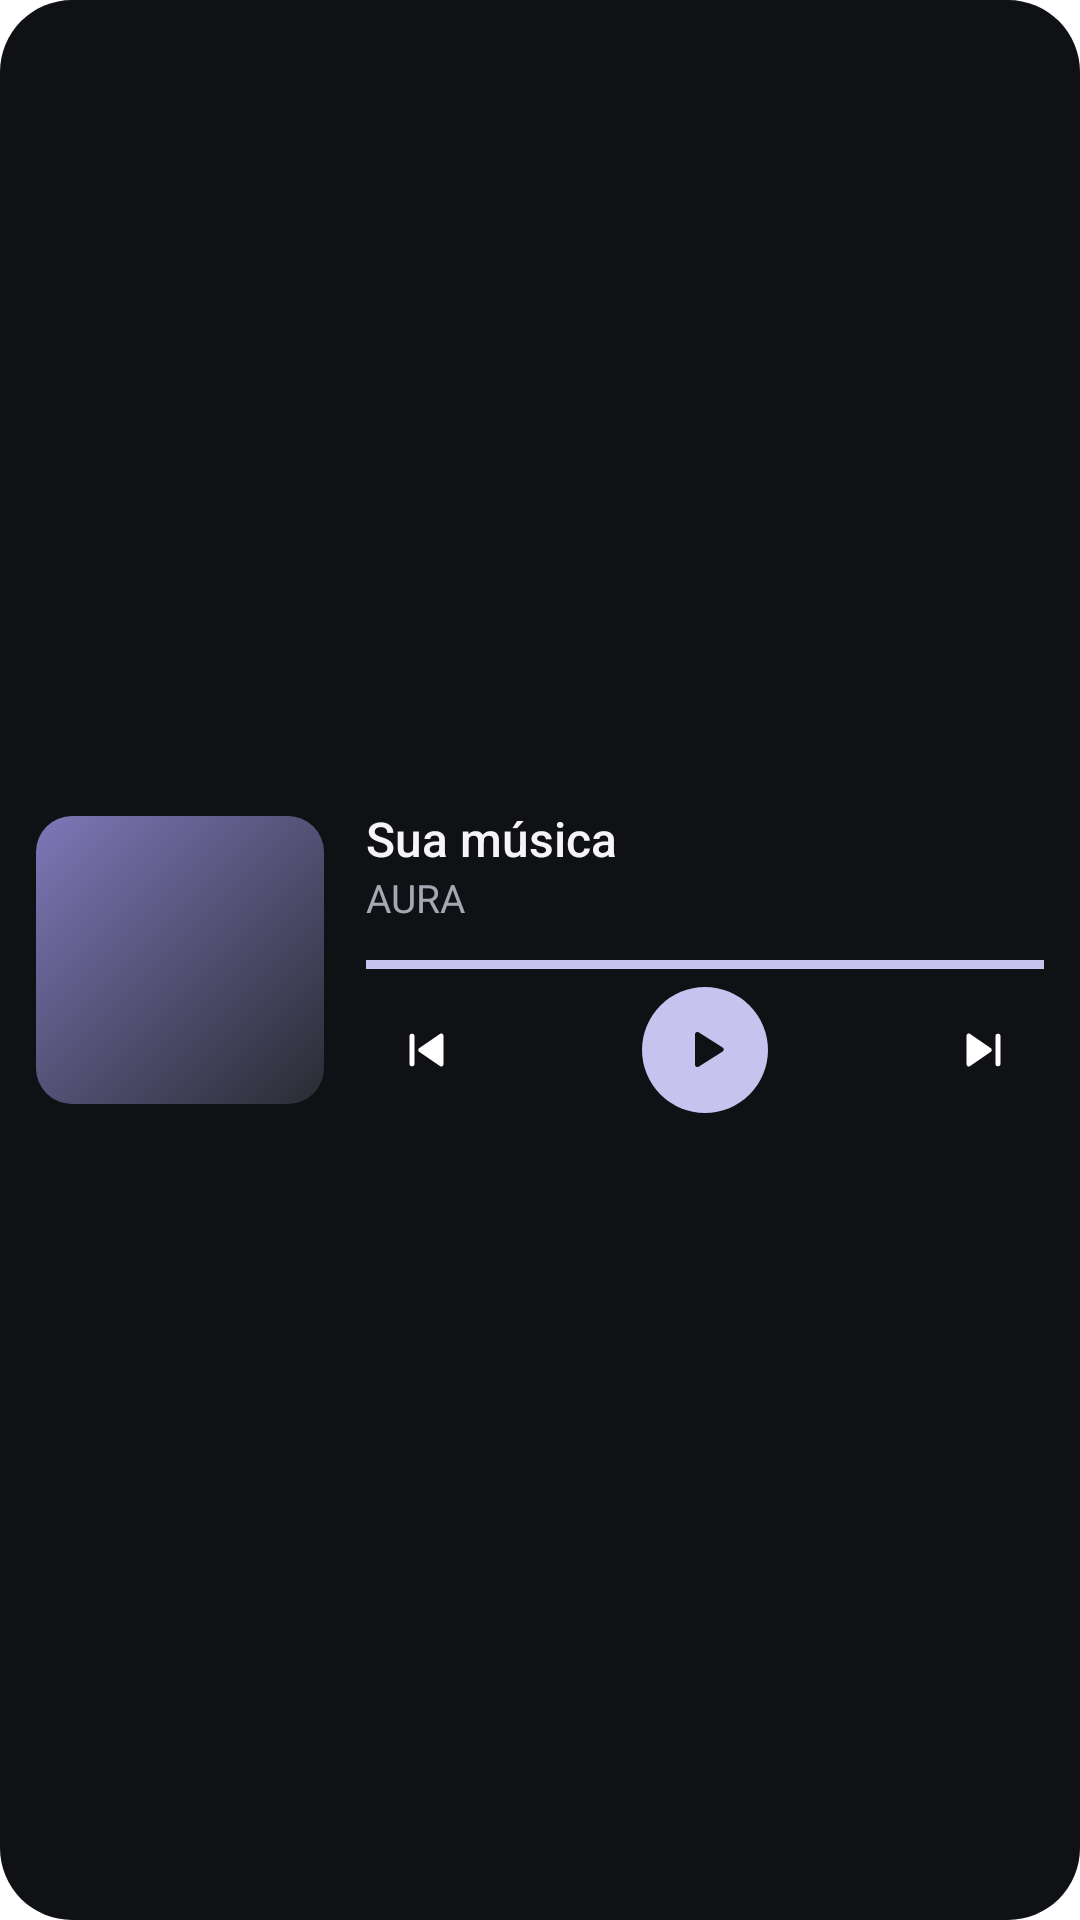

Screen size 1080x1920. Icon name, then its box in pixels as (x1, y1, x2, y2):
widget next: (966, 1033, 1001, 1067)
widget play: (695, 1032, 724, 1067)
widget previous: (409, 1033, 444, 1067)
